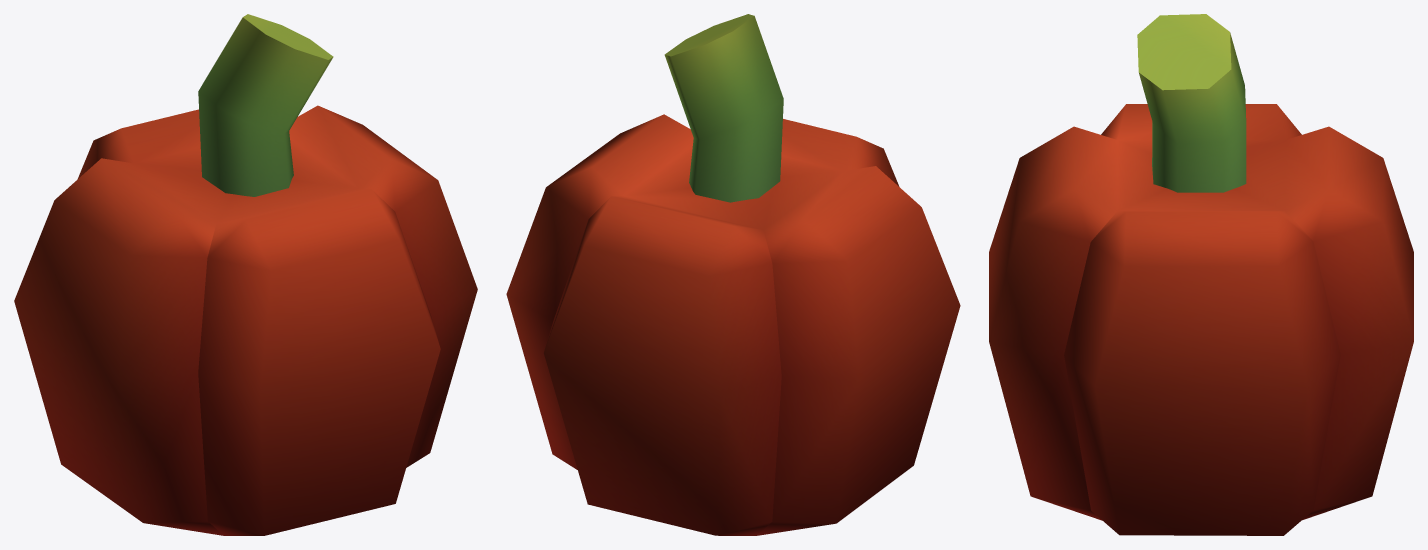
File: paprika_red.fbx
3 views of the same model, side by side, from view 1: azimuth 30°, elevation 25°; view 2: azimuth 150°, elevation 25°; view 3: azimuth 270°, elevation 25° (orthographic). The views are drawn at different scales.
Parts seen in each view (by area): view 1: paprika_red; view 2: paprika_red; view 3: paprika_red.
Boxes of the visible parts, x1,y1,x2,y2 form: paprika_red: (14, 14, 477, 535); paprika_red: (506, 14, 960, 535); paprika_red: (989, 14, 1413, 535).
Size of the model in its own units: 21.76 by 27.76 by 21.76.
